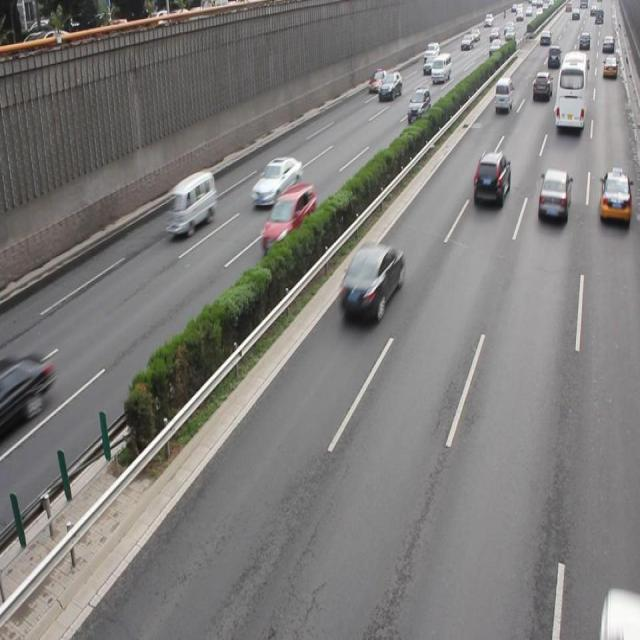car: (338, 242, 402, 320), (261, 183, 316, 250), (1, 352, 49, 428), (251, 156, 300, 208), (472, 150, 510, 209), (597, 170, 630, 227), (536, 167, 569, 224), (405, 87, 431, 122)
truck: (168, 171, 217, 233)
van: (555, 52, 583, 128)
